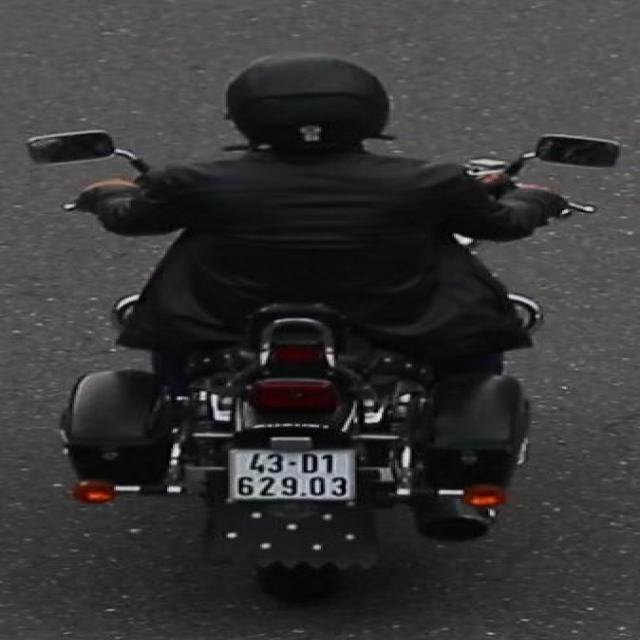LP: (220, 444, 363, 508)
helmet: (214, 49, 402, 167)
